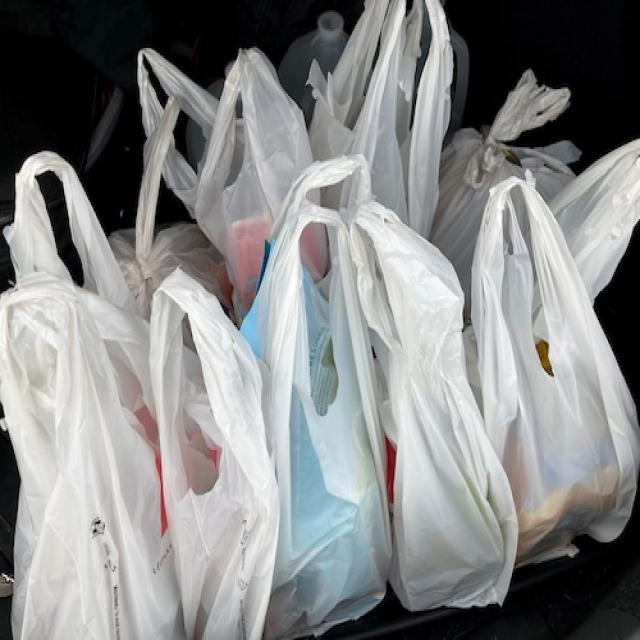plastic_bag: (224, 143, 400, 632), (360, 180, 531, 619), (1, 257, 196, 638), (465, 173, 639, 583), (136, 251, 284, 638)
